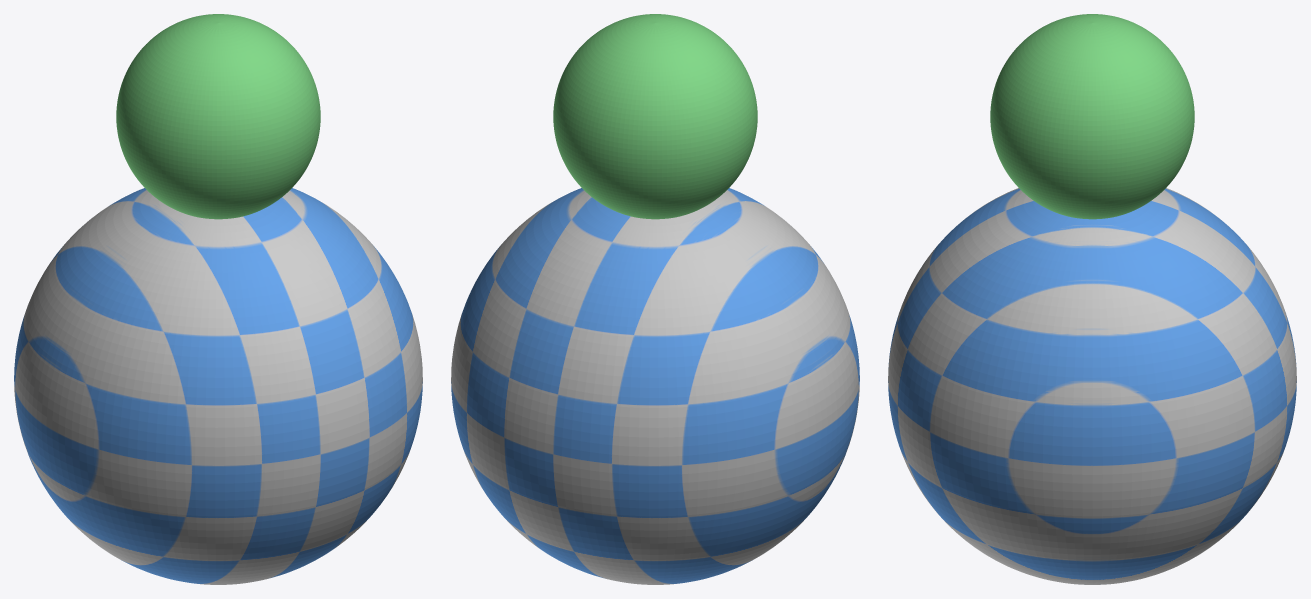
File: BOD0_BMC1_BCC13_BPT4_FRC0_HEA0_HMC13_HCC0_HPT0_ELT0_ERT0_ELL0_ERL0_AP0_AAL0_AAR0_BEK0.fbx
3 views of the same model, side by side, from view 1: azimuth 30°, elevation 25°; view 2: azimuth 150°, elevation 25°; view 3: azimuth 270°, elevation 25° (orthographic).
Visible parts, largest first — view 1: Body, Head; view 2: Body, Head; view 3: Body, Head.
Boxes of the visible parts, x1,y1,x2,y2 form: Body: [14, 188, 422, 584]; Head: [116, 14, 320, 219]; Body: [451, 188, 859, 584]; Head: [553, 14, 757, 219]; Body: [888, 188, 1296, 584]; Head: [990, 14, 1194, 219].
Size of the model in its own units: 98.72 by 145 by 98.72.
2 materials, 2 textured.
